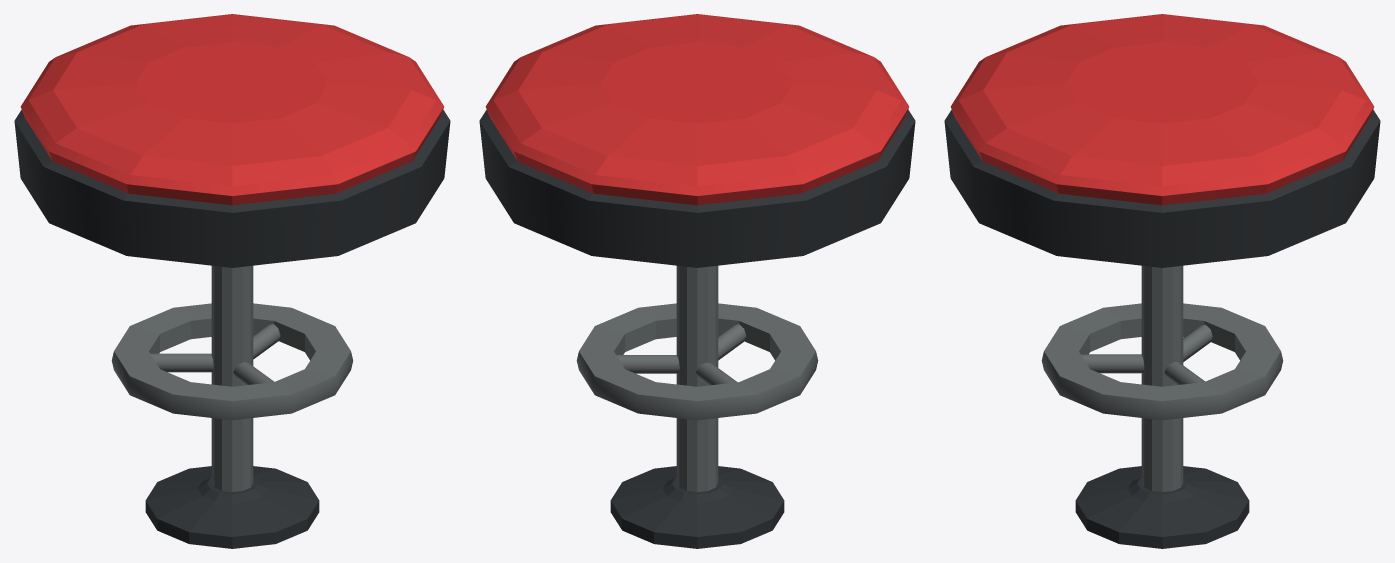
The model's file is SM_stool_03.fbx.
3 views of the same model, side by side, from view 1: azimuth 30°, elevation 25°; view 2: azimuth 150°, elevation 25°; view 3: azimuth 270°, elevation 25° (orthographic).
Visible parts, largest first — view 1: stool_03; view 2: stool_03; view 3: stool_03.
Boxes of the visible parts, box(x1,y1,x2,y2) form: stool_03: box(14, 14, 450, 548); stool_03: box(479, 14, 915, 548); stool_03: box(944, 14, 1380, 548).
Size of the model in its own units: 66.29 by 72.01 by 66.29.
